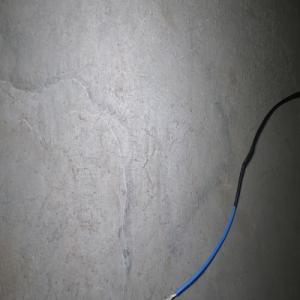Wire: (163, 90, 300, 300)
